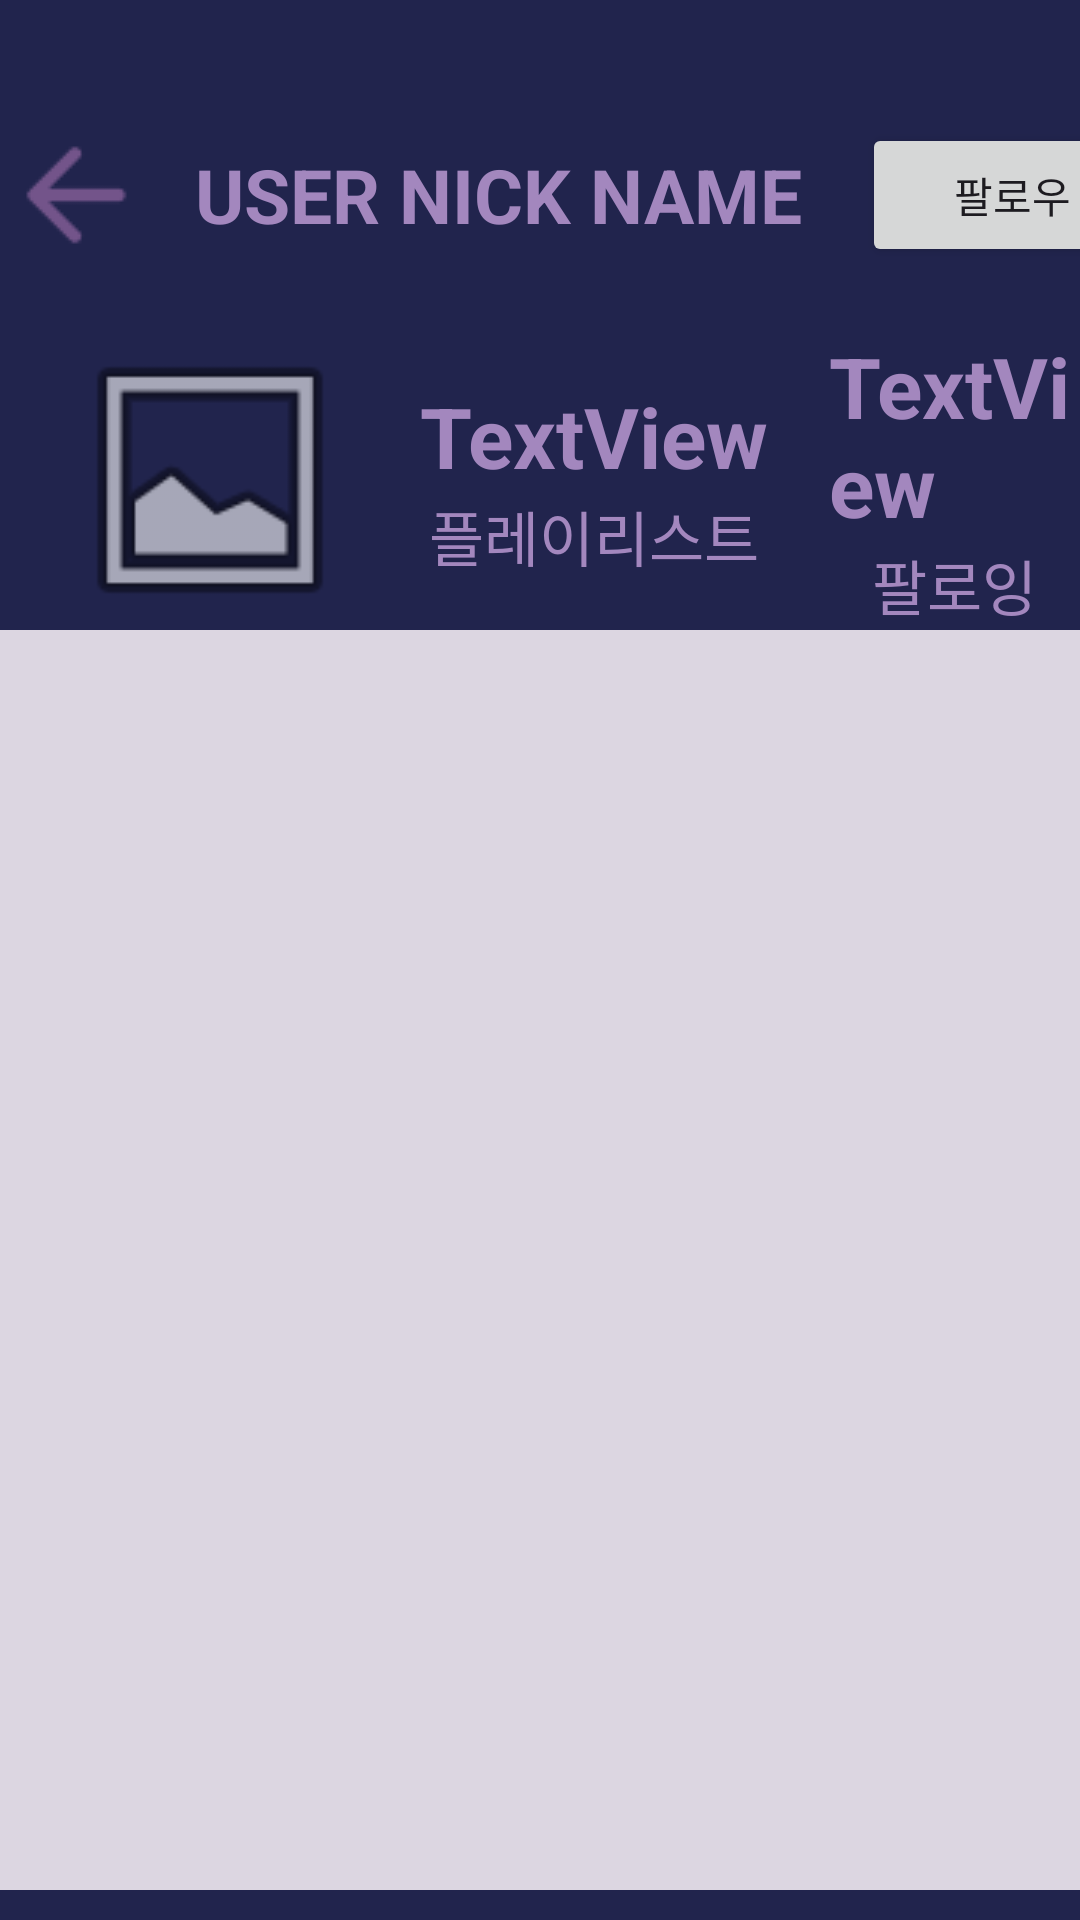

Where to tap for icons on this 1080x1920 app screen, as point (x, y):
back: point (76, 195)
gallery: point (210, 480)
